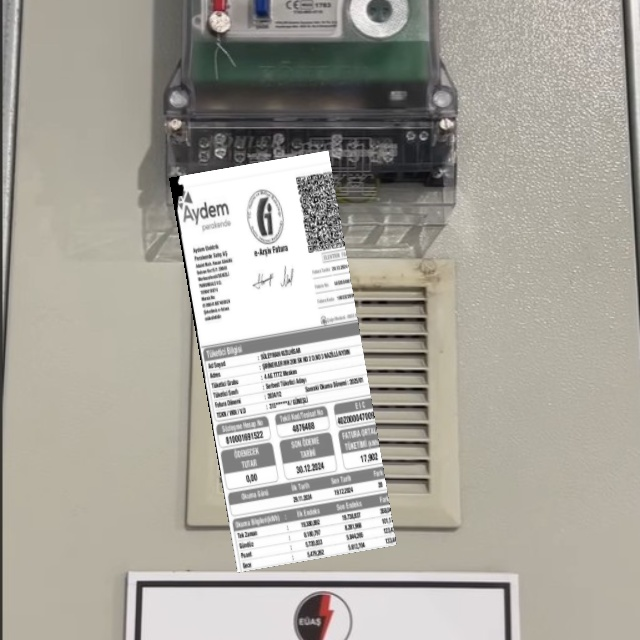electricity-bill: (168, 150, 396, 573)
